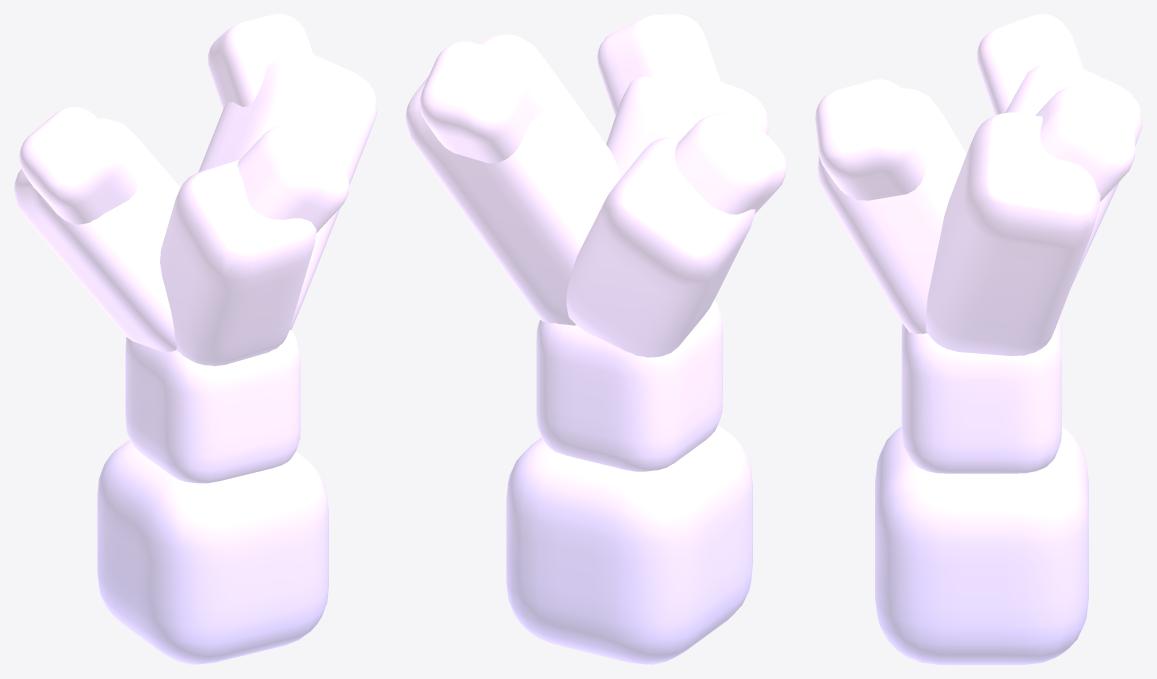
Rendered from Block_Coral_Violet_v0926.glb.
3 views of the same model, side by side, from view 1: azimuth 30°, elevation 25°; view 2: azimuth 150°, elevation 25°; view 3: azimuth 270°, elevation 25° (orthographic). The views are drawn at different scales.
Bounding box in the file's own units: 0.9121 × 1.47 × 0.7346.
